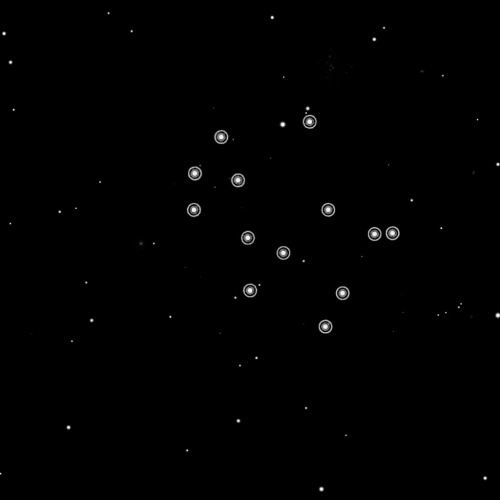gemini: (172, 109, 403, 340)
